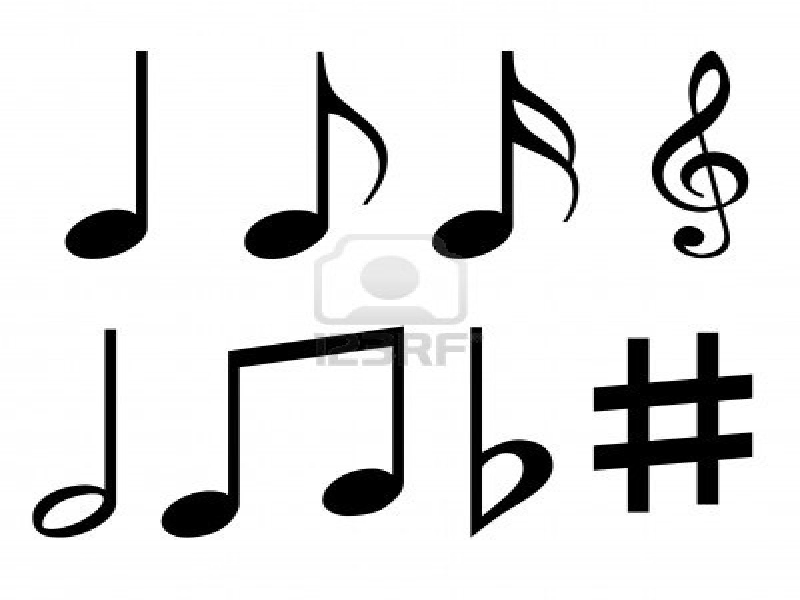B: (29, 328, 130, 544)
Bem: (466, 325, 555, 539)
C: (238, 42, 388, 263), (163, 337, 296, 541), (301, 325, 420, 517)
CS: (651, 49, 752, 259)
N: (65, 48, 153, 266)
SC: (432, 47, 581, 261)
SOS: (584, 332, 758, 514)
